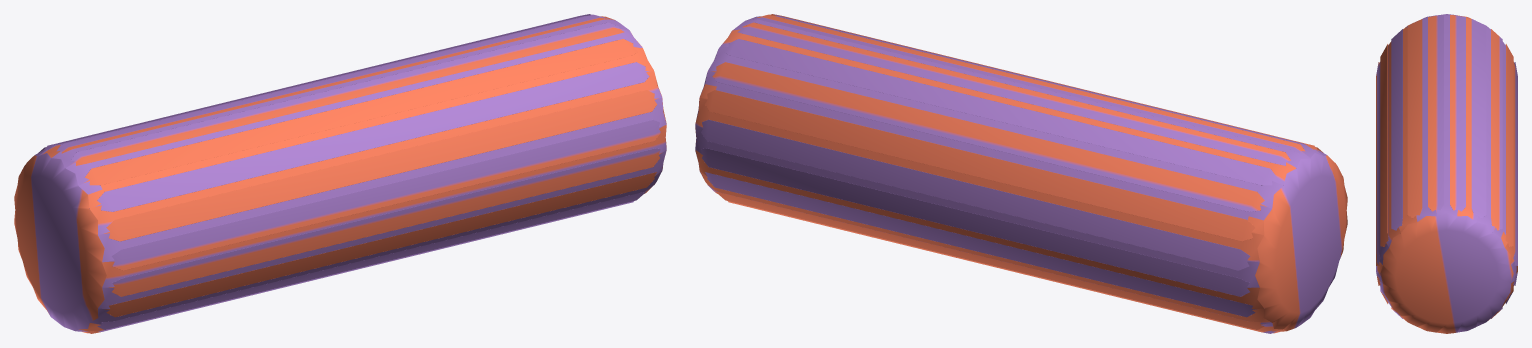
File: pastel_cushion_04.glb
The picture shows the model from 3 angles, left to right: view 1: azimuth 30°, elevation 25°; view 2: azimuth 150°, elevation 25°; view 3: azimuth 270°, elevation 25°; orthographic projection. The views are drawn at different scales.
Visible parts, largest first — view 1: pastel_cushion_04; view 2: pastel_cushion_04; view 3: pastel_cushion_04.
Part boxes in pixels (x1=…): pastel_cushion_04: x1=14, y1=14, x2=666, y2=333; pastel_cushion_04: x1=695, y1=14, x2=1347, y2=333; pastel_cushion_04: x1=1376, y1=14, x2=1517, y2=333.
Size of the model in its own units: 0.75 by 0.2185 by 0.2185.
Materials: 1 (1 with a texture image).
